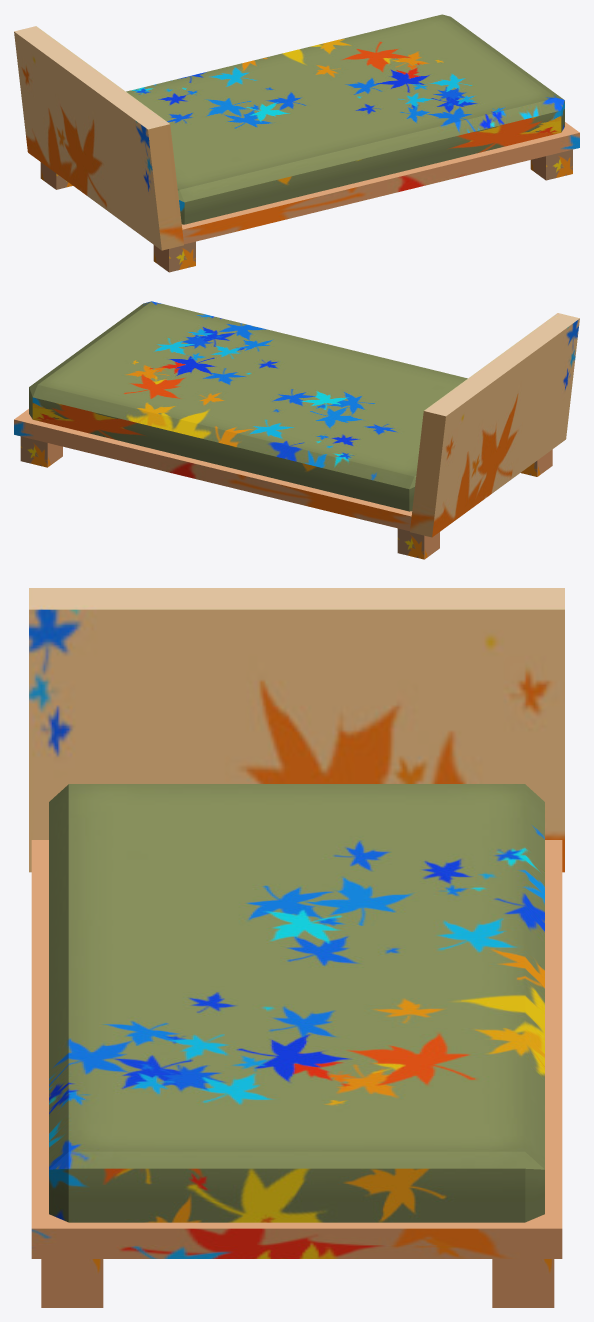
File: bed1.fbx
3 renders of one model, top to bottom at view 1: azimuth 30°, elevation 25°; view 2: azimuth 150°, elevation 25°; view 3: azimuth 270°, elevation 25°, orthographic. The views are drawn at different scales.
Visible parts, largest first — view 1: bed1; view 2: bed1; view 3: bed1.
Part boxes in pixels (x1,y1,x2,y2): bed1: (14,14,579,272); bed1: (14,301,579,559); bed1: (29,588,564,1307).
Size of the model in its own units: 16.11 by 5.38 by 8.64.
